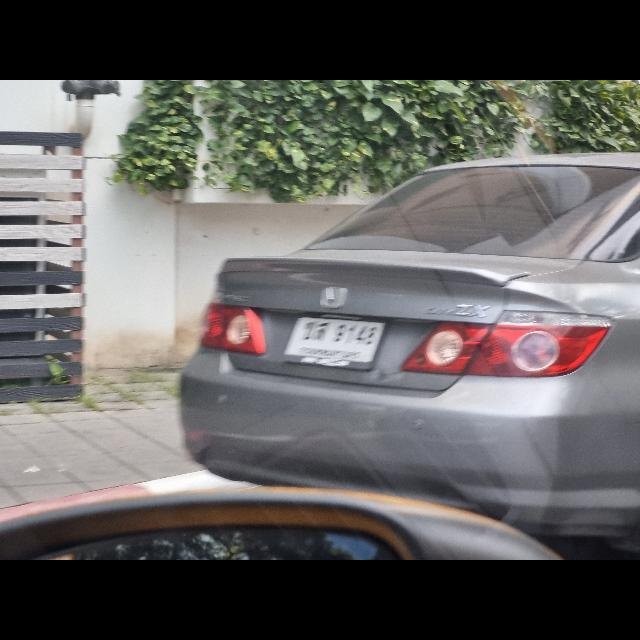licenseplate: (283, 310, 389, 374)
